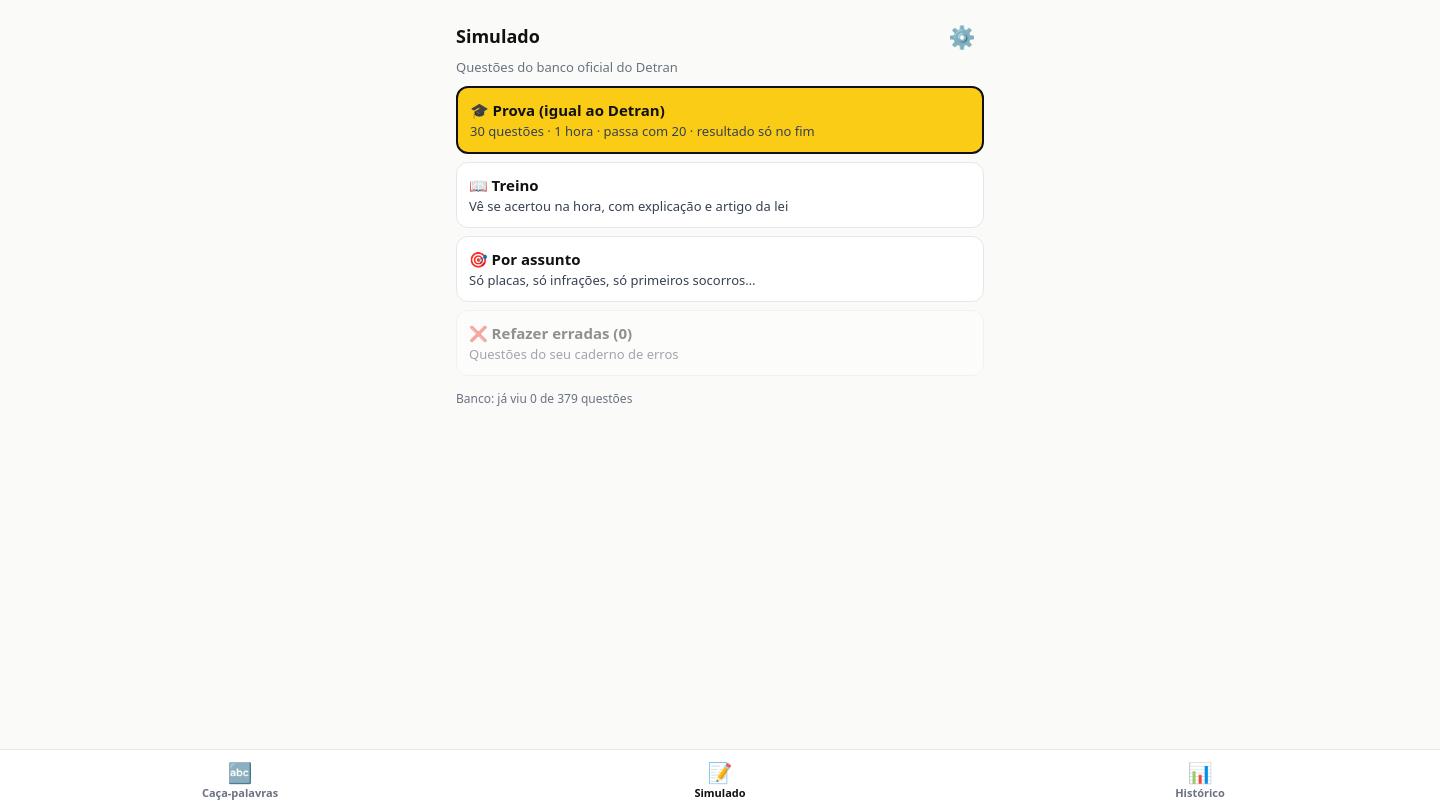
Test case: "Por assunto" abre a escolha entre as 4 áreas
Click the button "Por assunto": [720, 269] box [456, 236, 984, 302]
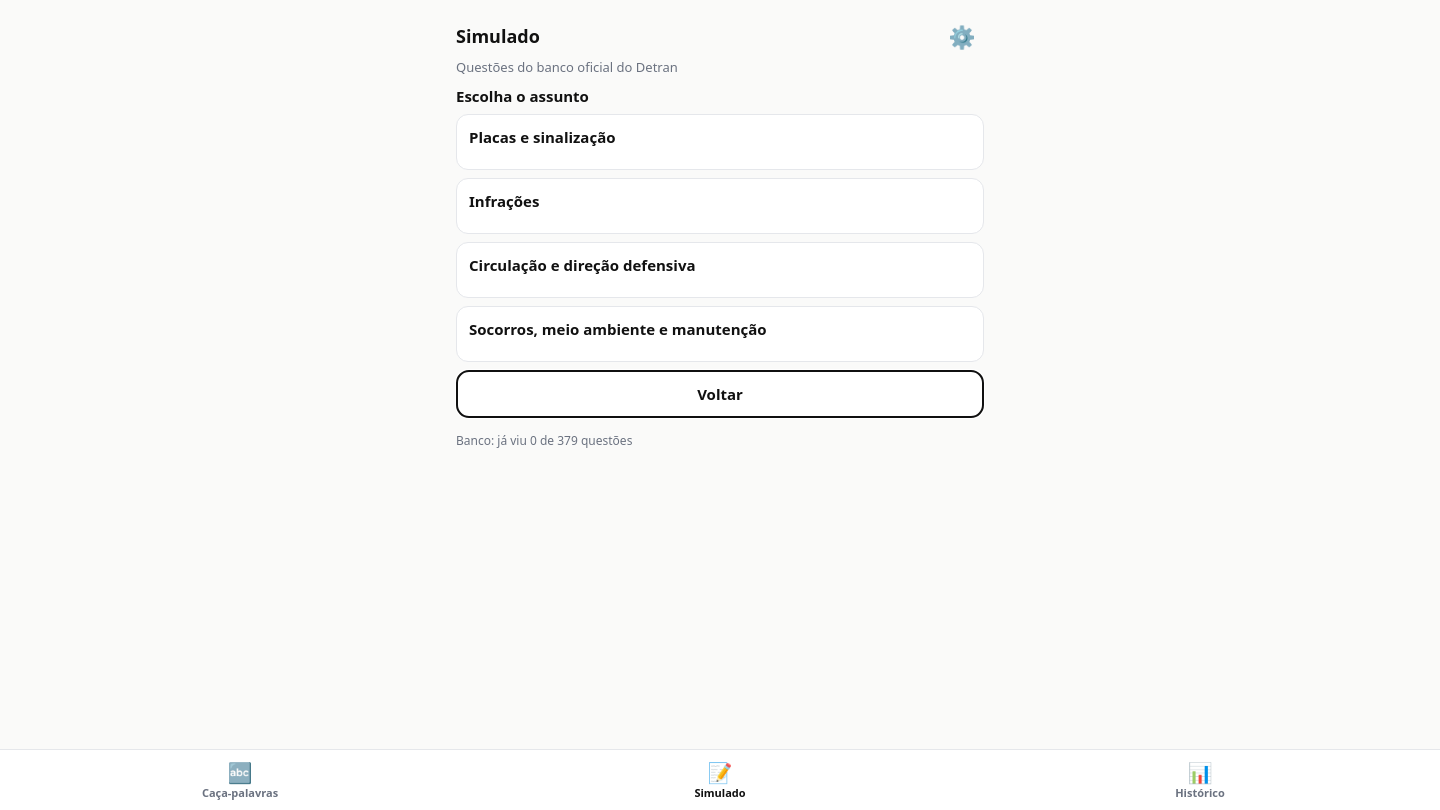
Check: the button "Infrações" is shown, box [456, 178, 984, 234]
Check: the button "Placas e sinalização" is shown, box [456, 114, 984, 170]
